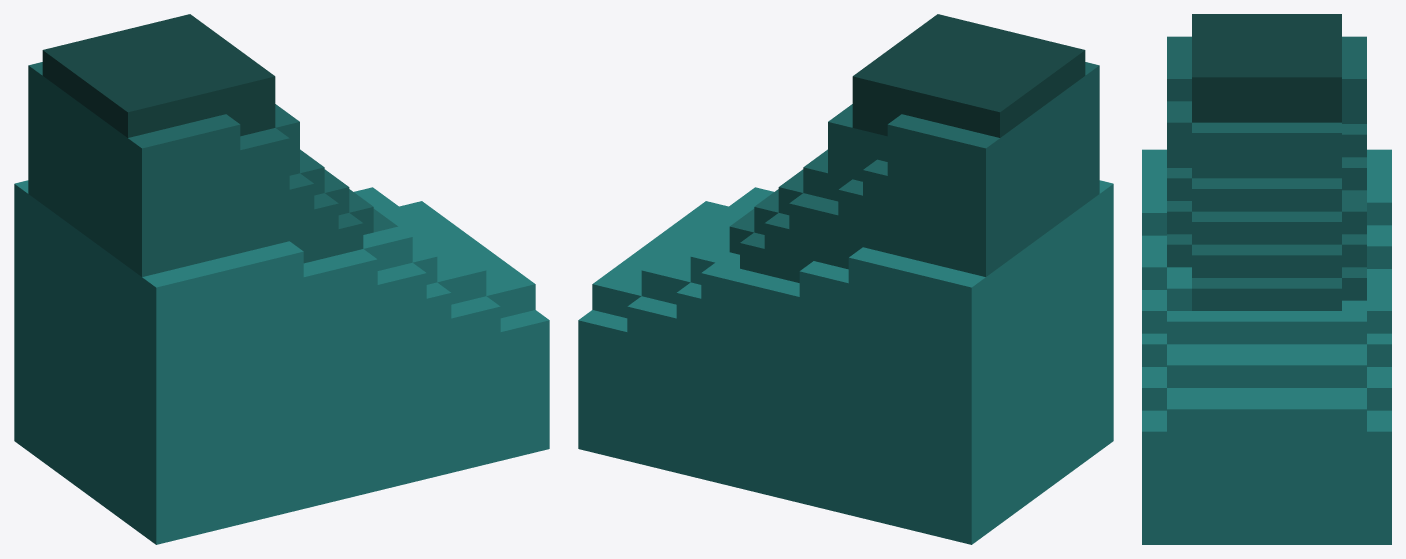
File: WinterGrass-10.obj
The picture shows the model from 3 angles, left to right: view 1: azimuth 30°, elevation 25°; view 2: azimuth 150°, elevation 25°; view 3: azimuth 270°, elevation 25°; orthographic projection. The views are drawn at different scales.
Size of the model in its own units: 1.6 by 1.6 by 1.
Materials: 1 (1 with a texture image).
